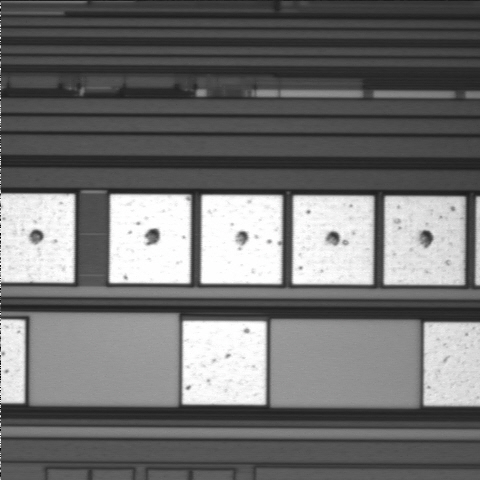pad: (109, 194, 191, 284), (292, 196, 374, 285), (201, 195, 282, 284), (384, 196, 465, 285), (182, 321, 266, 405)
